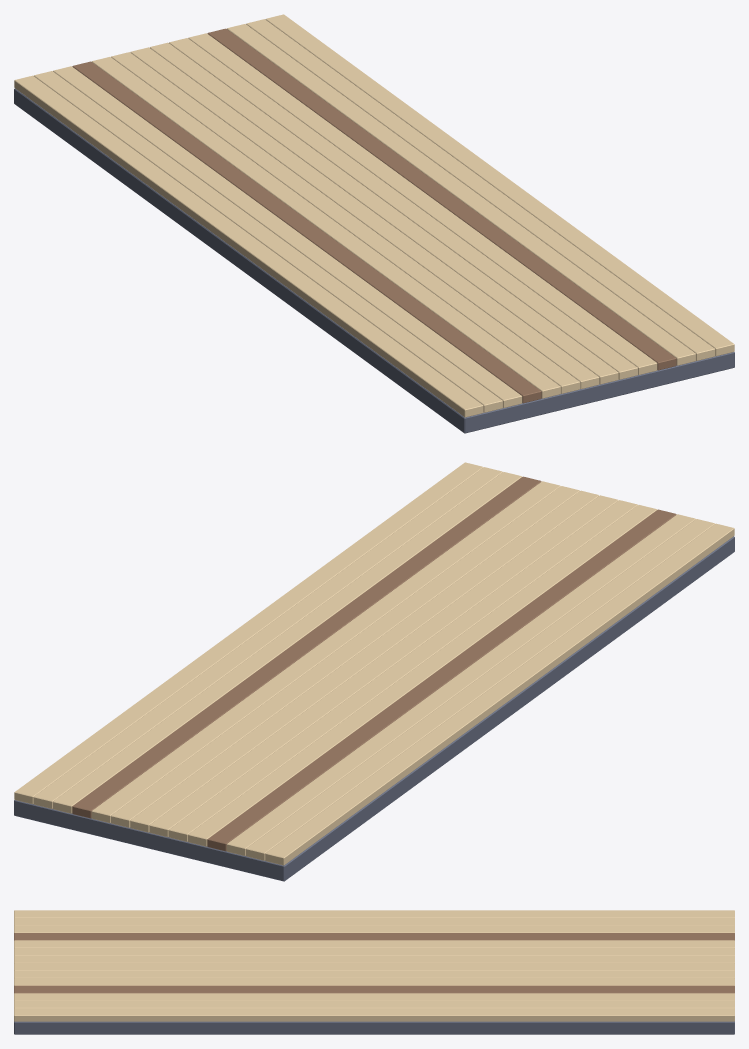
Rendered from lane-module.glb.
The picture shows the model from 3 angles, top to bottom: view 1: azimuth 30°, elevation 25°; view 2: azimuth 150°, elevation 25°; view 3: azimuth 270°, elevation 25°; orthographic projection. The views are drawn at different scales.
Visible parts, largest first — view 1: bowling-lane-module; view 2: bowling-lane-module; view 3: bowling-lane-module.
Boxes of the visible parts, box(x1,y1,x2,y2) form: bowling-lane-module: box(14, 14, 734, 433); bowling-lane-module: box(14, 462, 734, 881); bowling-lane-module: box(14, 910, 734, 1034).
Bounding box in the file's own units: 1.06 × 0.09 × 3.05.
